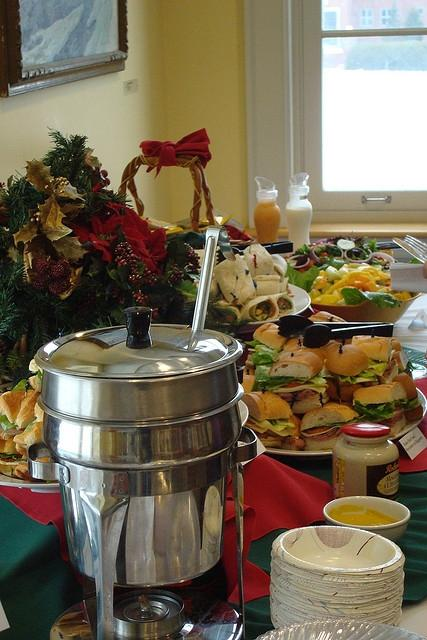lettuce: (254, 366, 330, 390), (285, 262, 320, 292), (353, 400, 394, 422), (249, 418, 296, 431), (173, 280, 198, 302), (341, 288, 368, 304), (252, 351, 276, 368), (254, 344, 278, 360), (0, 415, 18, 433), (11, 379, 34, 392), (332, 372, 356, 384), (398, 362, 420, 374), (367, 359, 387, 372), (0, 452, 22, 462), (365, 238, 380, 252), (406, 397, 420, 408)
onion: (310, 243, 344, 260), (343, 248, 373, 264), (372, 252, 395, 264), (288, 255, 309, 268)
